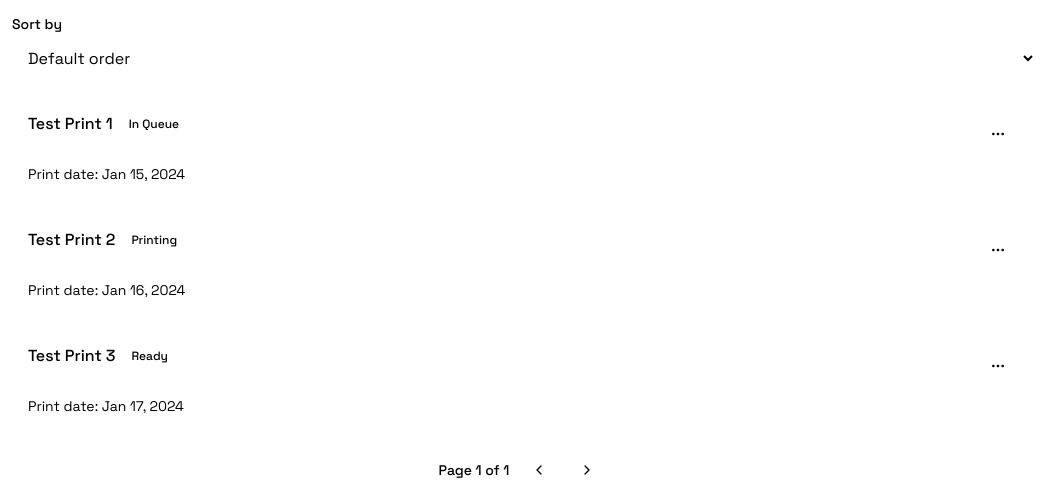
PrintJobsTable Integration › action menu › opens action menu for each row
Click the button named "Actions for". click: (998, 134)
box: [976,112,1020,156]
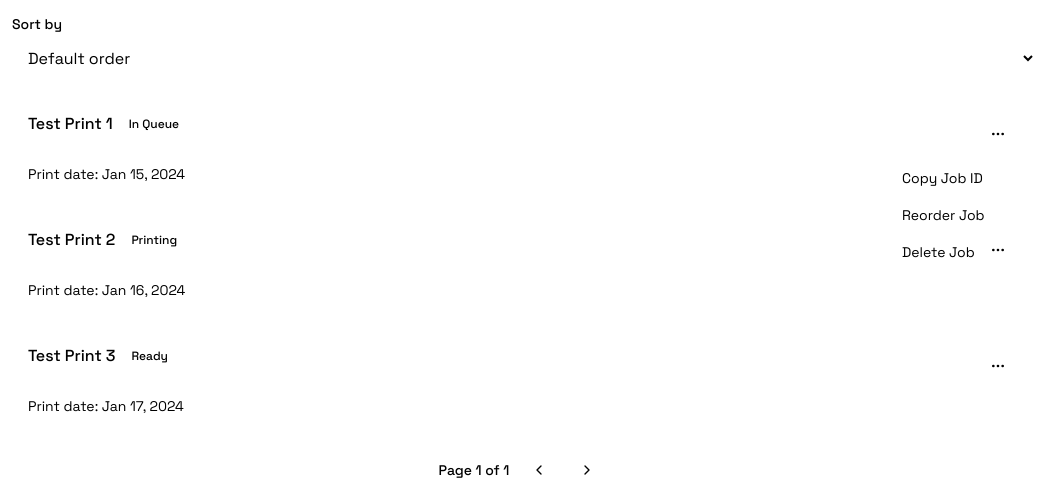
expect the menu item "Copy Job ID" is shown: met, box [902,169,983,187]
